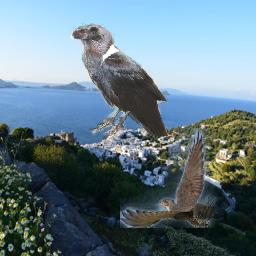Crow: (70, 24, 169, 137)
Cuckoo: (120, 128, 224, 228)
